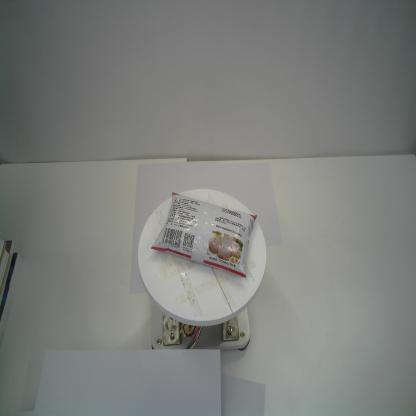Seasoner: (150, 191, 258, 278)
